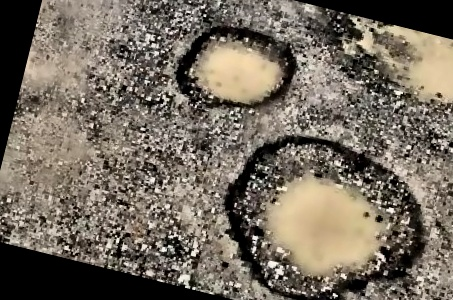pothole: (199, 115, 449, 300), (167, 12, 306, 124), (321, 11, 453, 125)
